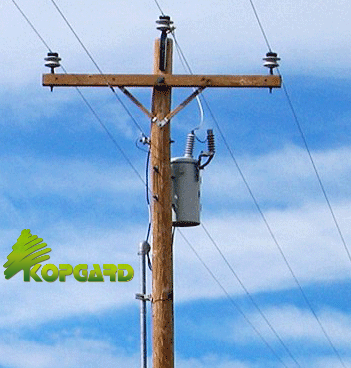utility_pole: (34, 7, 293, 234)
